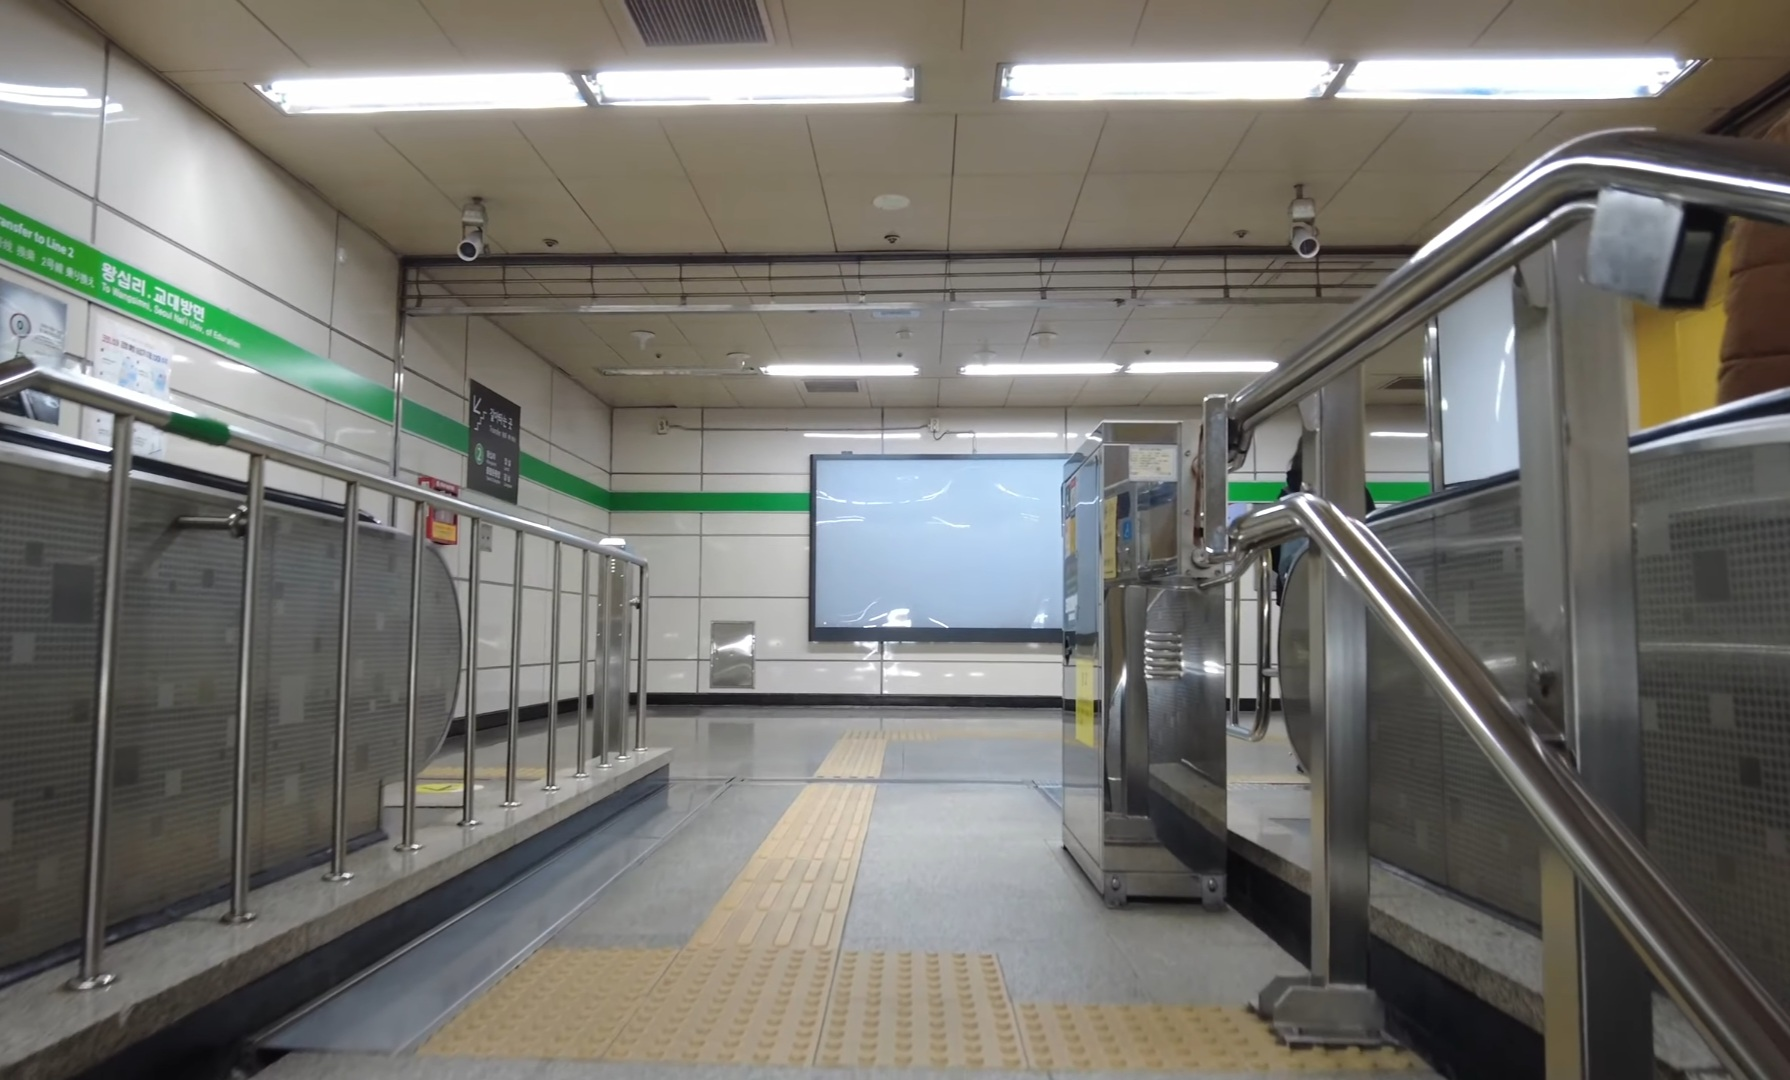guideBlock: (696, 916, 843, 973), (729, 877, 845, 927), (762, 841, 848, 897)
warningBlock: (1016, 1006, 1275, 1080), (836, 989, 1013, 1077), (625, 997, 821, 1074), (474, 992, 621, 1054), (651, 964, 835, 1014), (843, 950, 978, 1010), (538, 951, 641, 993)
